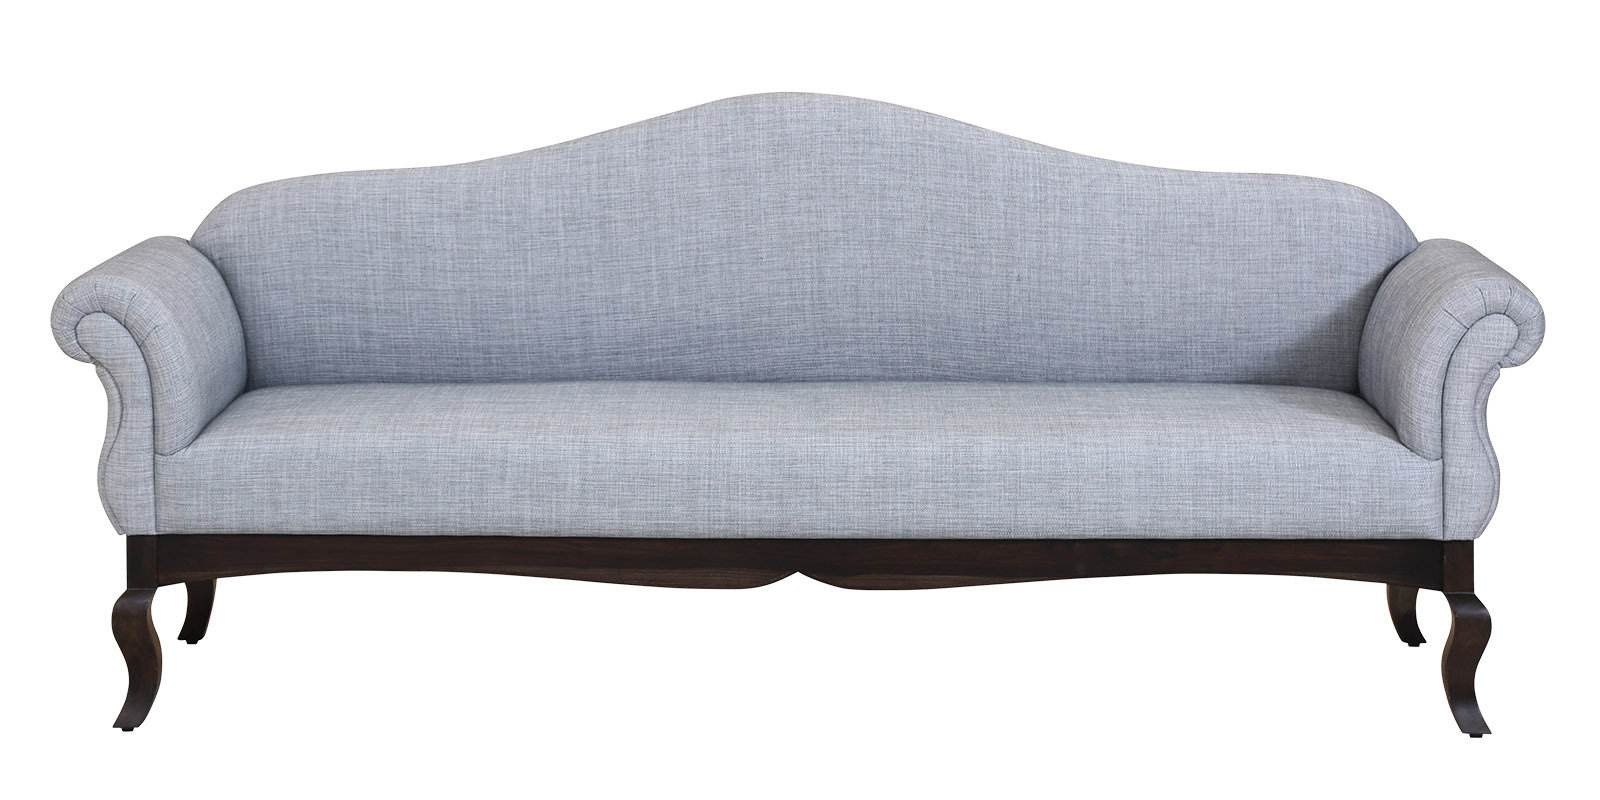Anne Three Seater Sofa in Warm Chestnut Finish by Amberville: (31, 76, 1550, 762)
